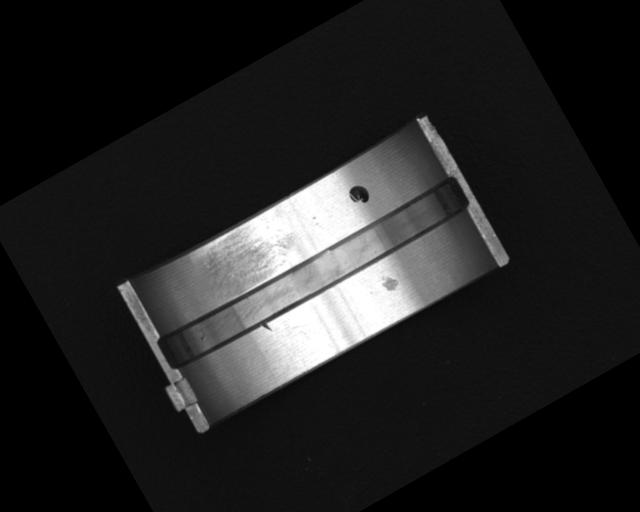blot: (346, 180, 373, 209)
bruise: (377, 268, 403, 295), (261, 320, 273, 334)
gap: (153, 172, 473, 376)
scratch: (190, 205, 305, 305)
